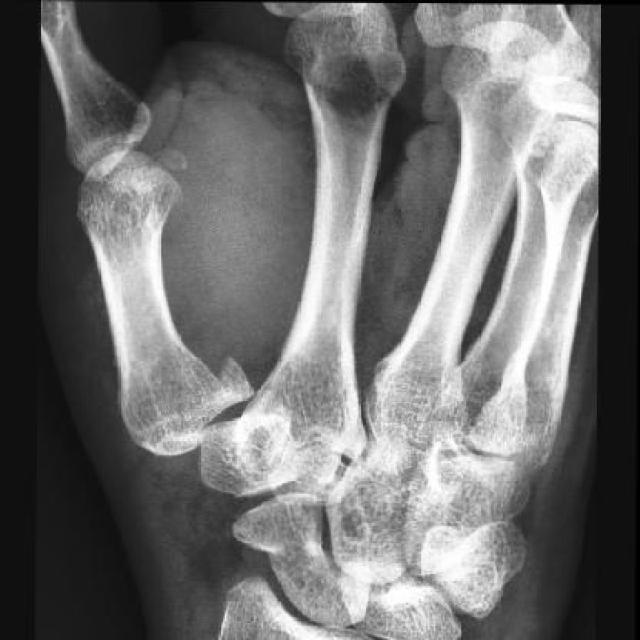Fracture: (176, 342, 258, 444)
